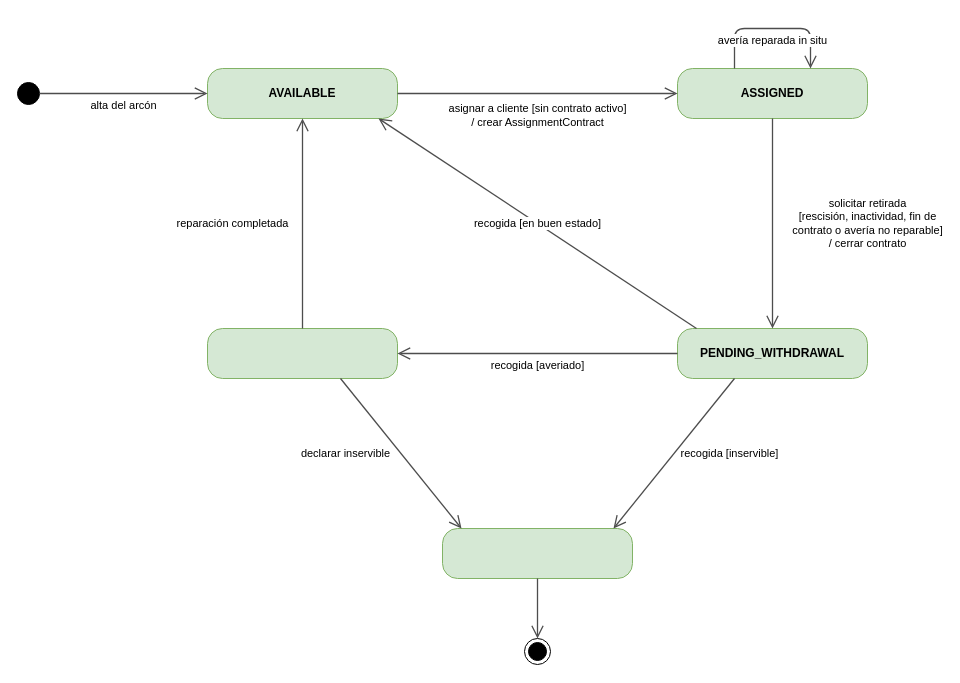
Image size: 960x683. Some labels were removed from this diagram. The shapes that lost their labels are listed below. From the top down, each one's centre as x and y in pixels, then its label:
the point at 302,353: MAINTENANCE
the point at 537,553: RETIRED
